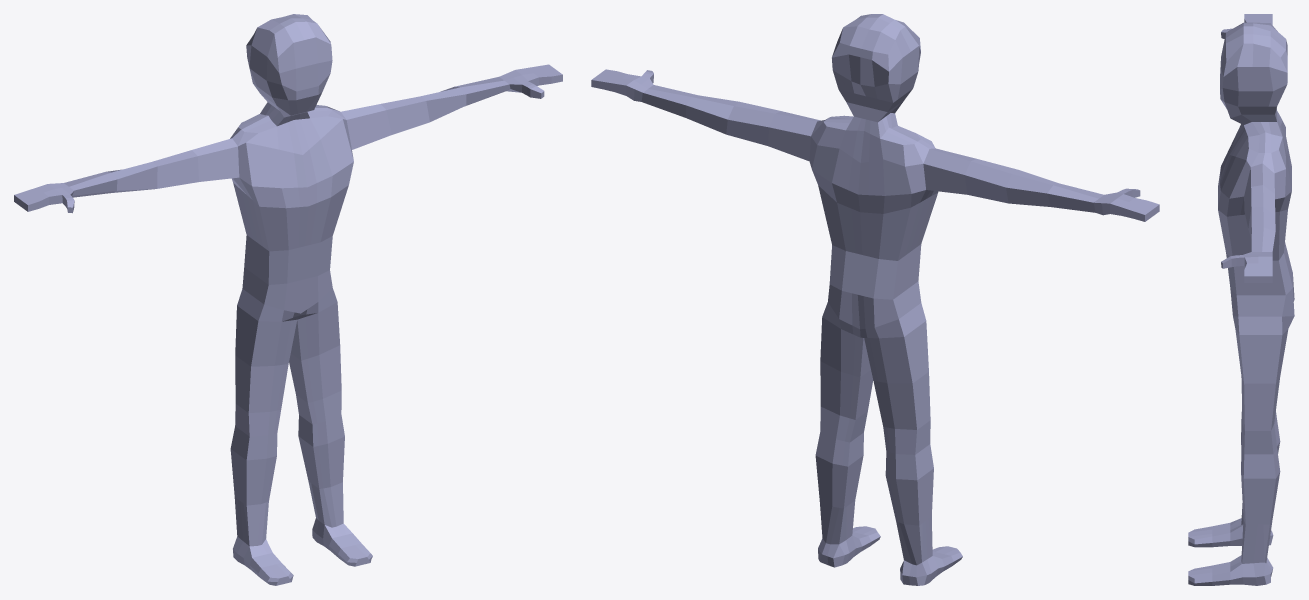
File: Player3.fbx
3 views of the same model, side by side, from view 1: azimuth 30°, elevation 25°; view 2: azimuth 150°, elevation 25°; view 3: azimuth 270°, elevation 25° (orthographic). The views are drawn at different scales.
Visible parts, largest first — view 1: Cube.001; view 2: Cube.001; view 3: Cube.001.
Part boxes in pixels (x1,y1,x2,y2): Cube.001: (14,14,562,585); Cube.001: (591,14,1159,585); Cube.001: (1188,14,1294,585).
Size of the model in its own units: 1064 by 1013 by 182.
